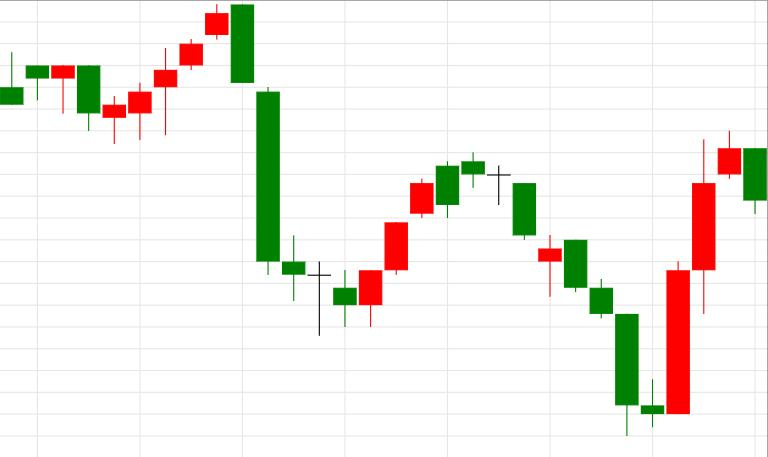morning_star_rise: (462, 149, 690, 435)
three_white_soldiers_rise: (462, 131, 740, 435)
